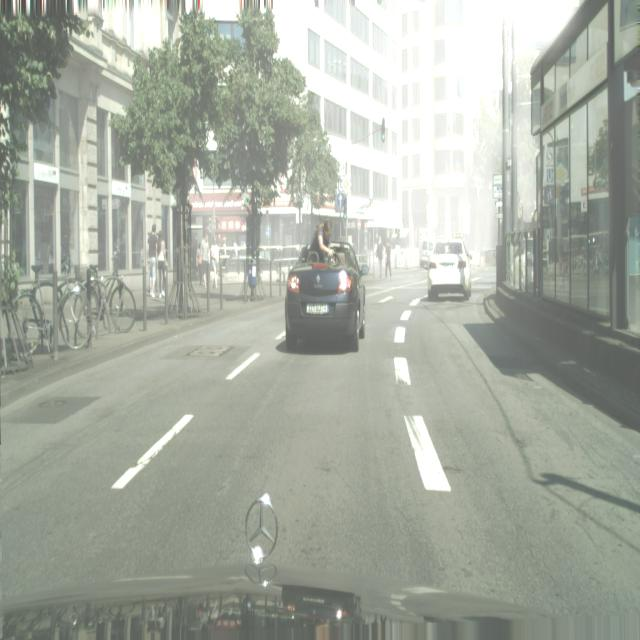car: (59, 261, 136, 348), (16, 261, 80, 358), (166, 249, 201, 321)
person: (148, 224, 158, 298), (156, 232, 167, 298), (200, 231, 210, 288), (210, 237, 219, 288), (384, 235, 392, 280), (375, 235, 383, 278)
truck: (285, 211, 366, 352), (427, 238, 472, 301)
